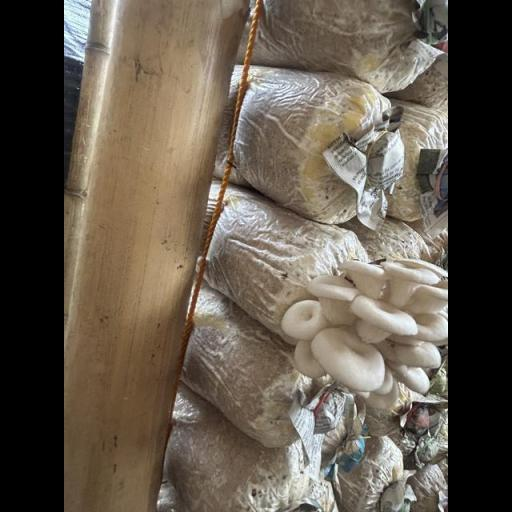White Oyster Mushroom: (283, 258, 446, 405)
